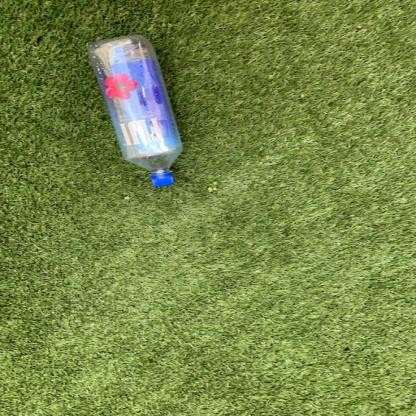trash: (86, 32, 187, 188)
